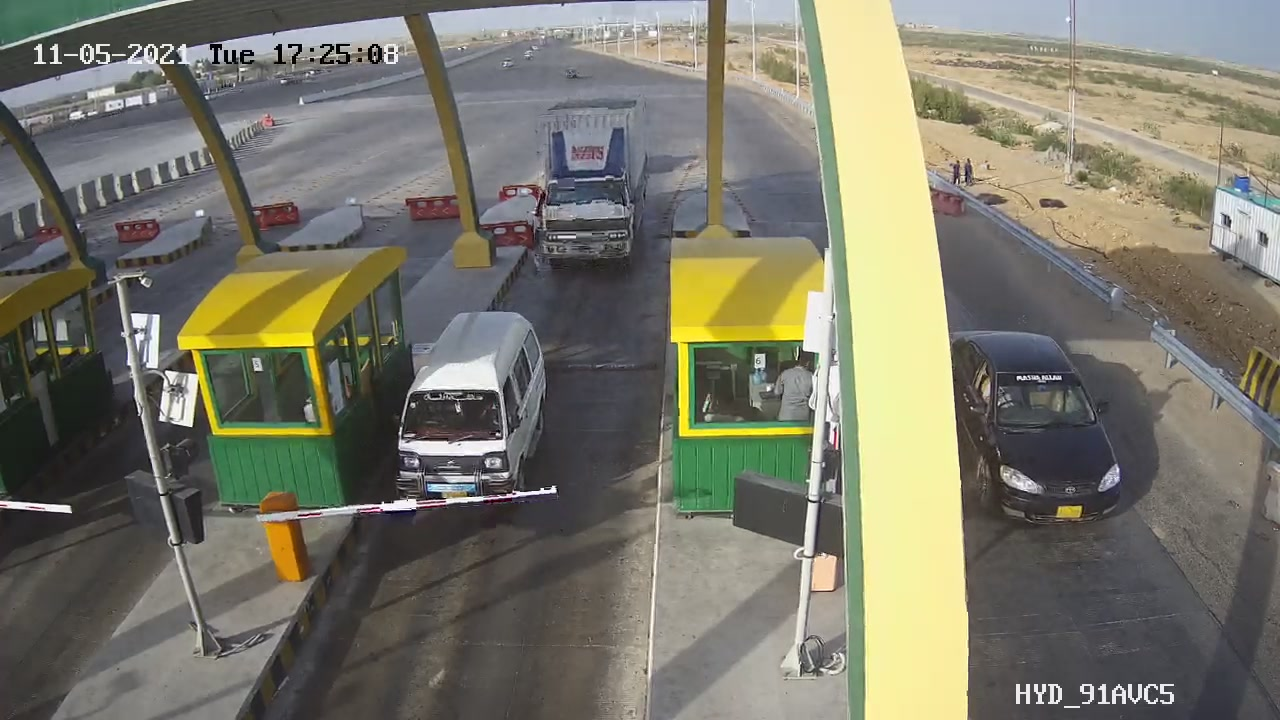F1: (379, 300, 568, 524)
